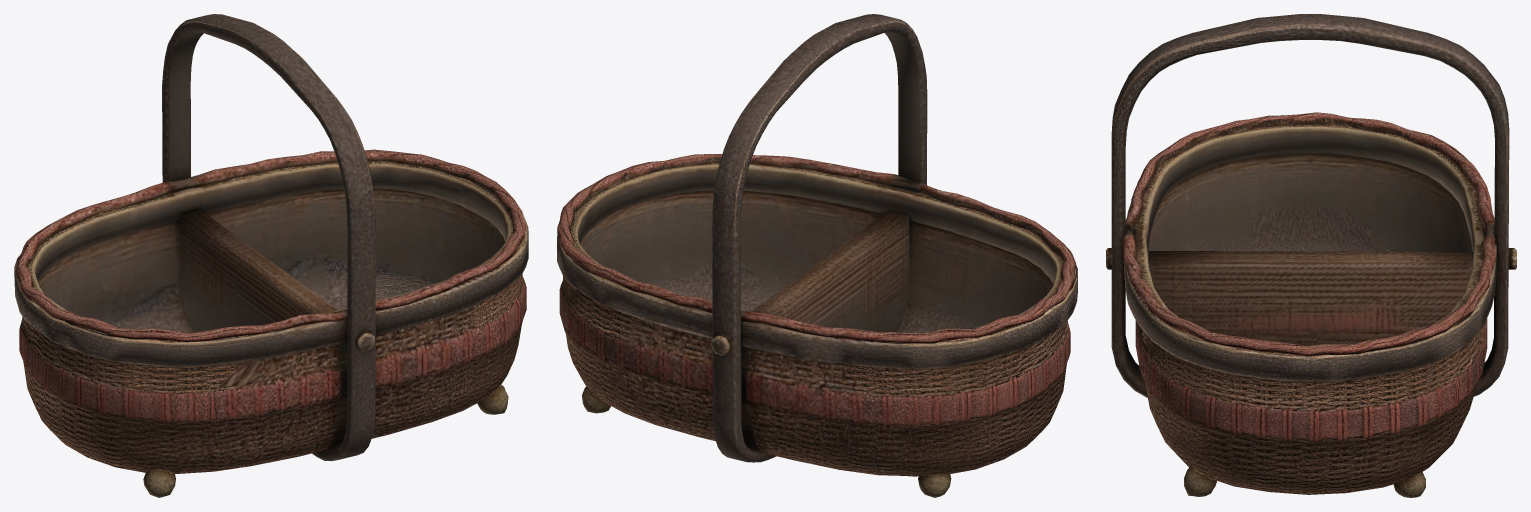
The model's file is tripo_convert_f4fe6d41-996c-484c-9e07-c2c3021f5a2b.fbx.
3 views of the same model, side by side, from view 1: azimuth 30°, elevation 25°; view 2: azimuth 150°, elevation 25°; view 3: azimuth 270°, elevation 25° (orthographic). The views are drawn at different scales.
Parts seen in each view (by area): view 1: tripo_node_f4fe6d41; view 2: tripo_node_f4fe6d41; view 3: tripo_node_f4fe6d41.
Boxes of the visible parts, left/top/right/bottom form: tripo_node_f4fe6d41: left=14, top=14, right=528, bottom=497; tripo_node_f4fe6d41: left=557, top=14, right=1077, bottom=497; tripo_node_f4fe6d41: left=1106, top=14, right=1516, bottom=497.
Bounding box in the file's own units: 0.998 × 0.7637 × 0.7324.
Materials: 1 (1 with a texture image).
